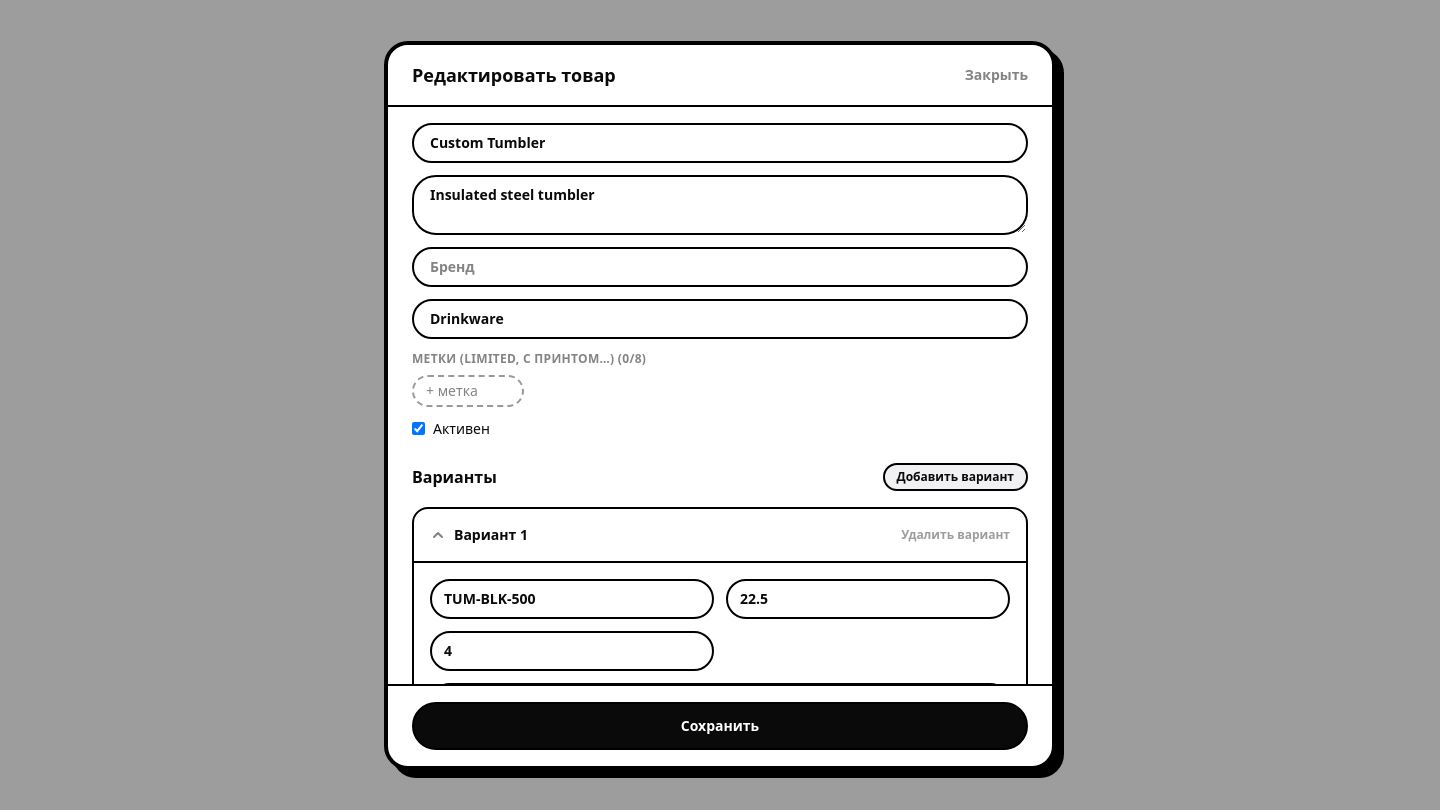
Test: ProductForm › disables submit once the last variant is removed
What coordinates should you click on to do the following:
click the button "Удалить вариант"
I would click on:
 (956, 534)
Its box is [901,526,1010,542].
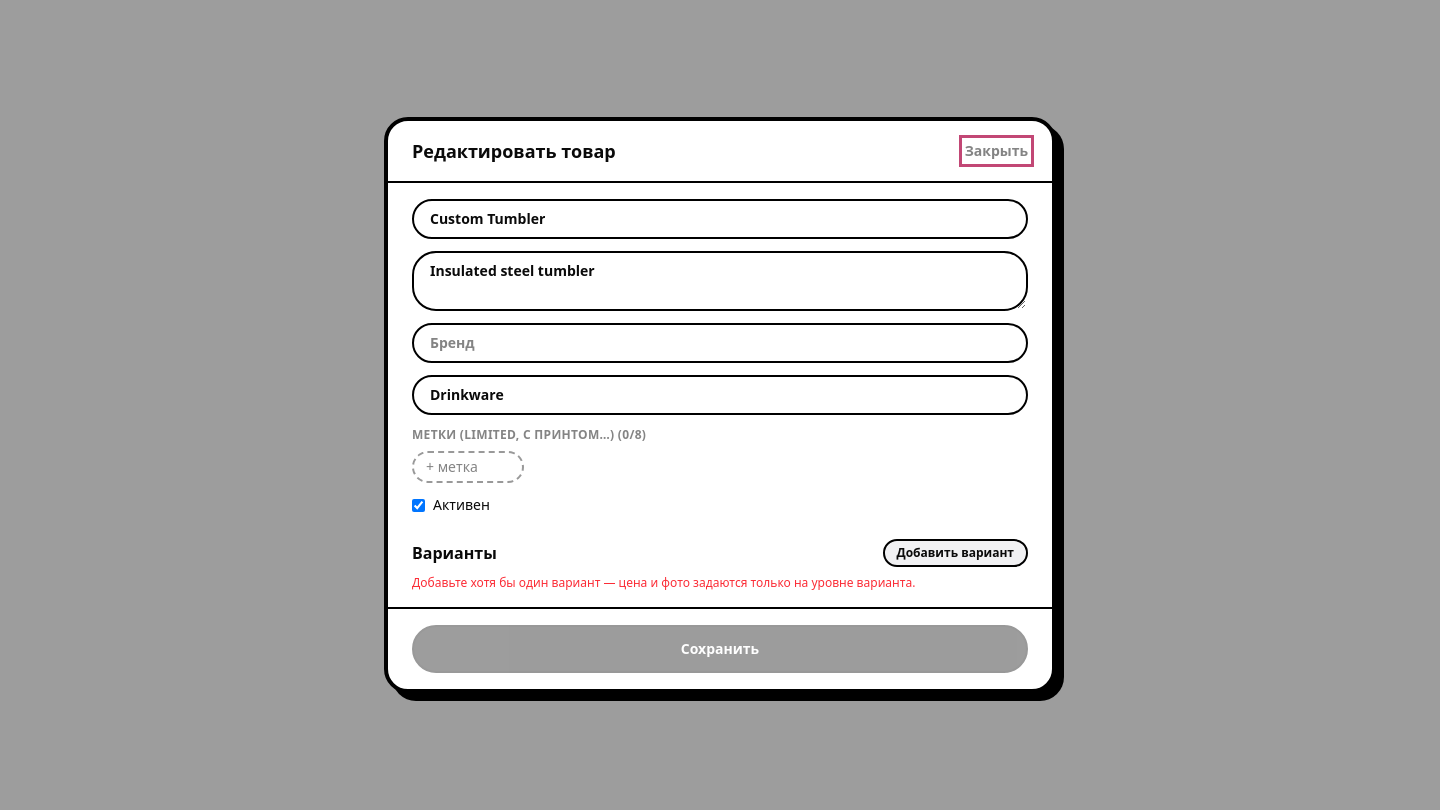
Expected: the button "Сохранить" is disabled, [412,625,1028,673]
Expected: the text "Добавьте хотя бы один вариант" is shown, [412,574,915,591]
